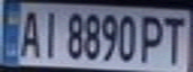0: (118, 11, 142, 63)
8: (81, 9, 103, 61), (63, 8, 84, 61)
9: (100, 10, 121, 62)
A: (15, 7, 45, 60)
I: (36, 7, 60, 60)
P: (139, 11, 169, 64)
T: (157, 12, 190, 65)
